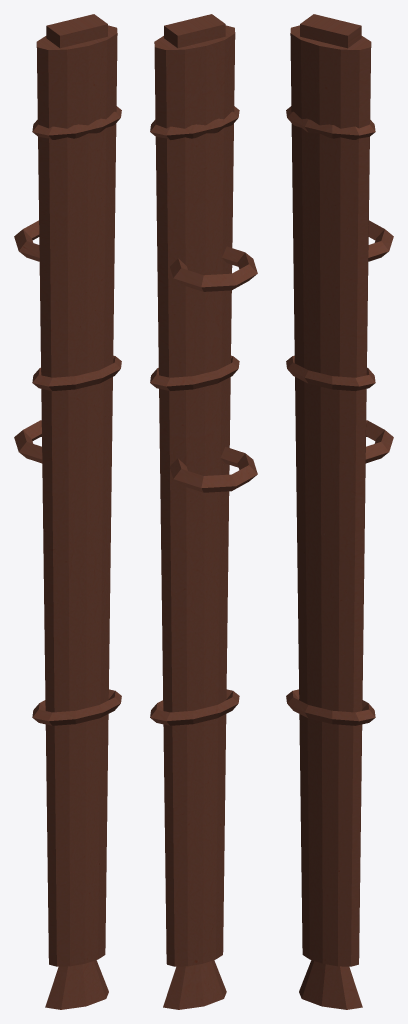
File: scabbard.fbx
3 views of the same model, side by side, from view 1: azimuth 30°, elevation 25°; view 2: azimuth 210°, elevation 25°; view 3: azimuth 330°, elevation 25° (orthographic).
Parts seen in each view (by area): view 1: scabbard; view 2: scabbard; view 3: scabbard.
Part boxes in pixels (<box>): scabbard: <box>14,14,121,1009</box>; scabbard: <box>150,14,257,1009</box>; scabbard: <box>286,14,393,1009</box>.
Bounding box in the file's own units: 0.056 × 0.5825 × 0.0583.
1 material, 1 textured.
